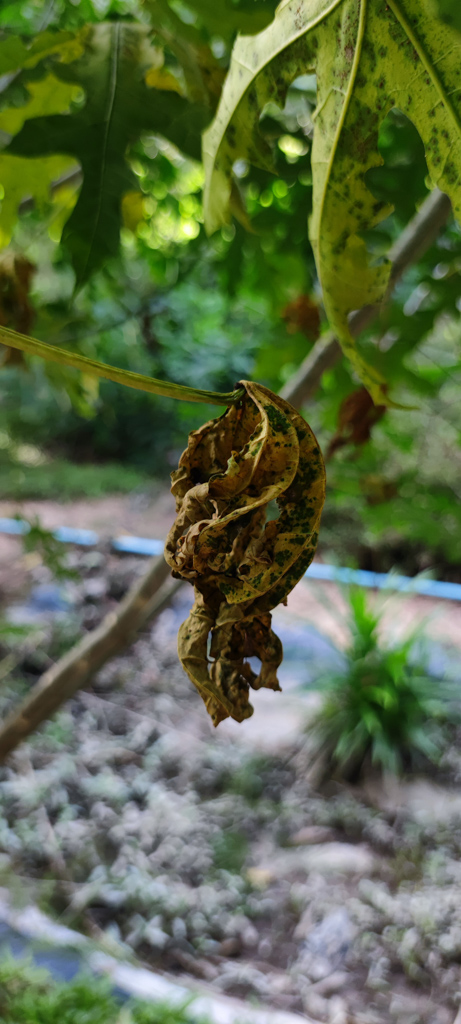Alternaria brassicicola: (203, 6, 456, 413)
Pepper yellow leaf: (159, 366, 336, 746)
